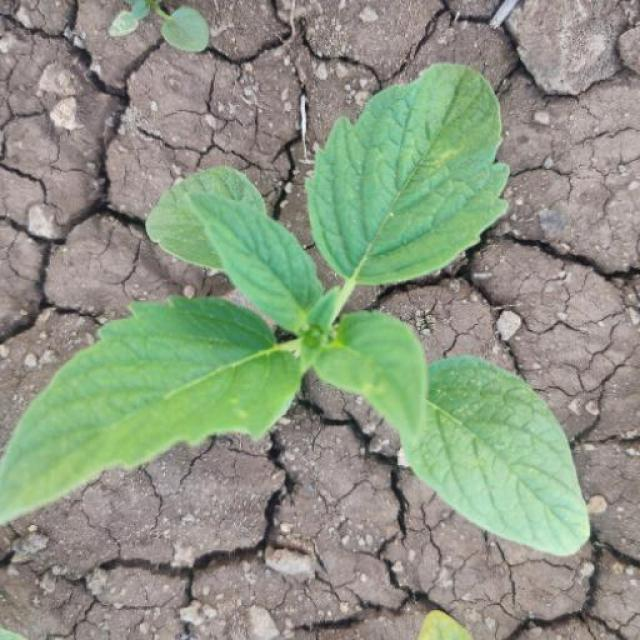crop: (1, 57, 614, 575)
